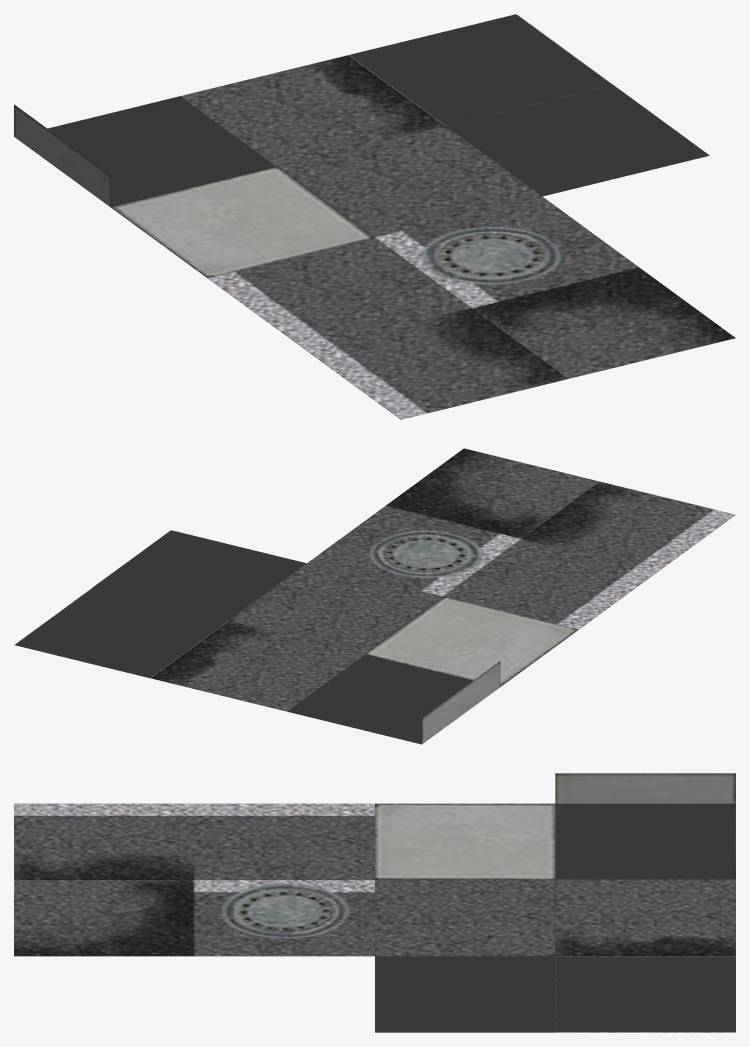
The model's file is StreetTiles 1.fbx.
3 renders of one model, top to bottom at view 1: azimuth 30°, elevation 25°; view 2: azimuth 150°, elevation 25°; view 3: azimuth 270°, elevation 25°, orthographic. The views are drawn at different scales.
Parts seen in each view (by area): view 1: Plane, Plane.003, Plane.002, Plane.007, Plane.010, Plane.005, Plane.009, Plane.001, Plane.004, Plane.008, Plane.006; view 2: Plane.003, Plane.001, Plane.002, Plane.009, Plane.004, Plane.007, Plane.010, Plane, Plane.005, Plane.008, Plane.006; view 3: Plane.001, Plane.003, Plane.007, Plane.008, Plane.009, Plane.010, Plane, Plane.002, Plane.004, Plane.005, Plane.006.
Boxes of the visible parts, x1,y1,x2,y2 form: Plane: [304, 308, 567, 419]; Plane.003: [375, 196, 638, 307]; Plane.002: [472, 267, 735, 378]; Plane.007: [182, 55, 445, 166]; Plane.010: [446, 85, 709, 196]; Plane.005: [111, 166, 374, 278]; Plane.009: [349, 14, 612, 125]; Plane.001: [208, 237, 471, 348]; Plane.004: [278, 125, 541, 237]; Plane.008: [47, 96, 277, 207]; Plane.006: [14, 104, 110, 206]; Plane.003: [307, 506, 520, 596]; Plane.001: [443, 539, 656, 629]; Plane.002: [386, 448, 599, 538]; Plane.009: [14, 587, 227, 677]; Plane.004: [229, 563, 442, 653]; Plane.007: [150, 621, 363, 711]; Plane.010: [93, 530, 306, 620]; Plane: [522, 481, 735, 571]; Plane.005: [365, 596, 578, 686]; Plane.008: [286, 654, 472, 744]; Plane.006: [422, 661, 500, 744]; Plane.001: [194, 803, 374, 879]; Plane.003: [194, 880, 374, 956]; Plane.007: [555, 880, 735, 956]; Plane.008: [555, 803, 735, 879]; Plane.009: [555, 956, 735, 1032]; Plane.010: [375, 956, 555, 1032]; Plane: [14, 803, 194, 879]; Plane.002: [14, 880, 194, 956]; Plane.004: [375, 880, 555, 956]; Plane.005: [375, 803, 555, 879]; Plane.006: [555, 773, 735, 803].
Bounding box in the file's own units: 300 × 18.53 × 400.
Materials: 1 (1 with a texture image).
